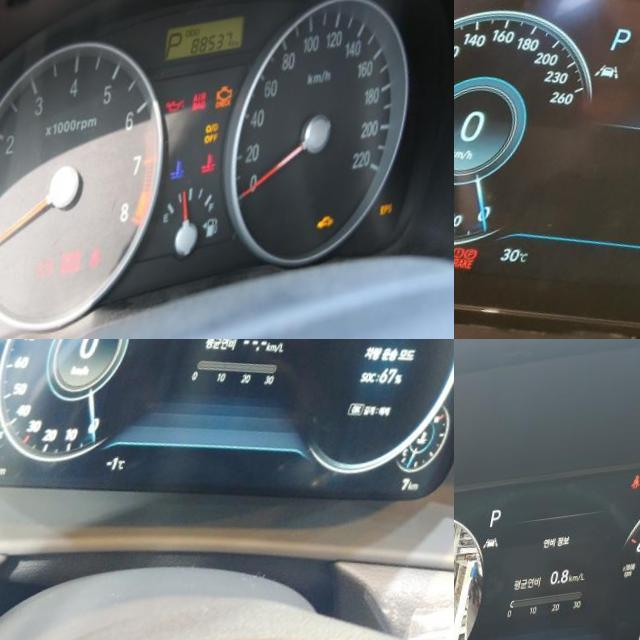Engine cooling system: (212, 160, 230, 181)
LaneCenteringOff: (602, 64, 635, 88), (492, 544, 509, 556)
